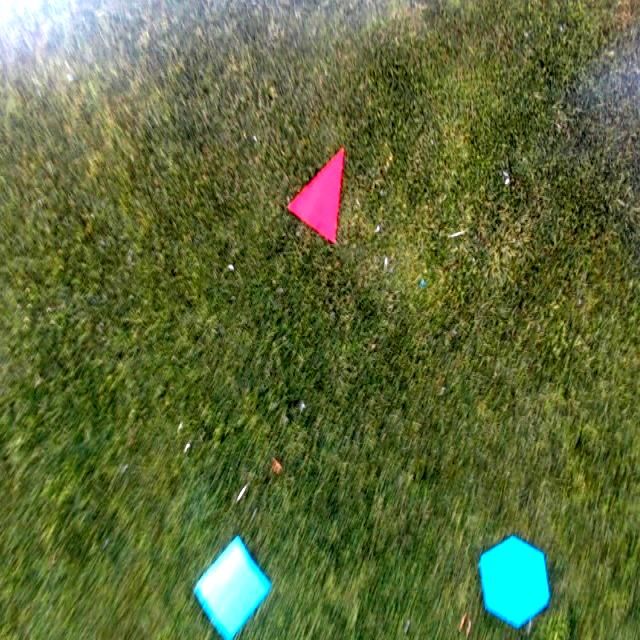blue_hexagon: (480, 533, 550, 627)
red_triangle: (289, 148, 345, 242)
